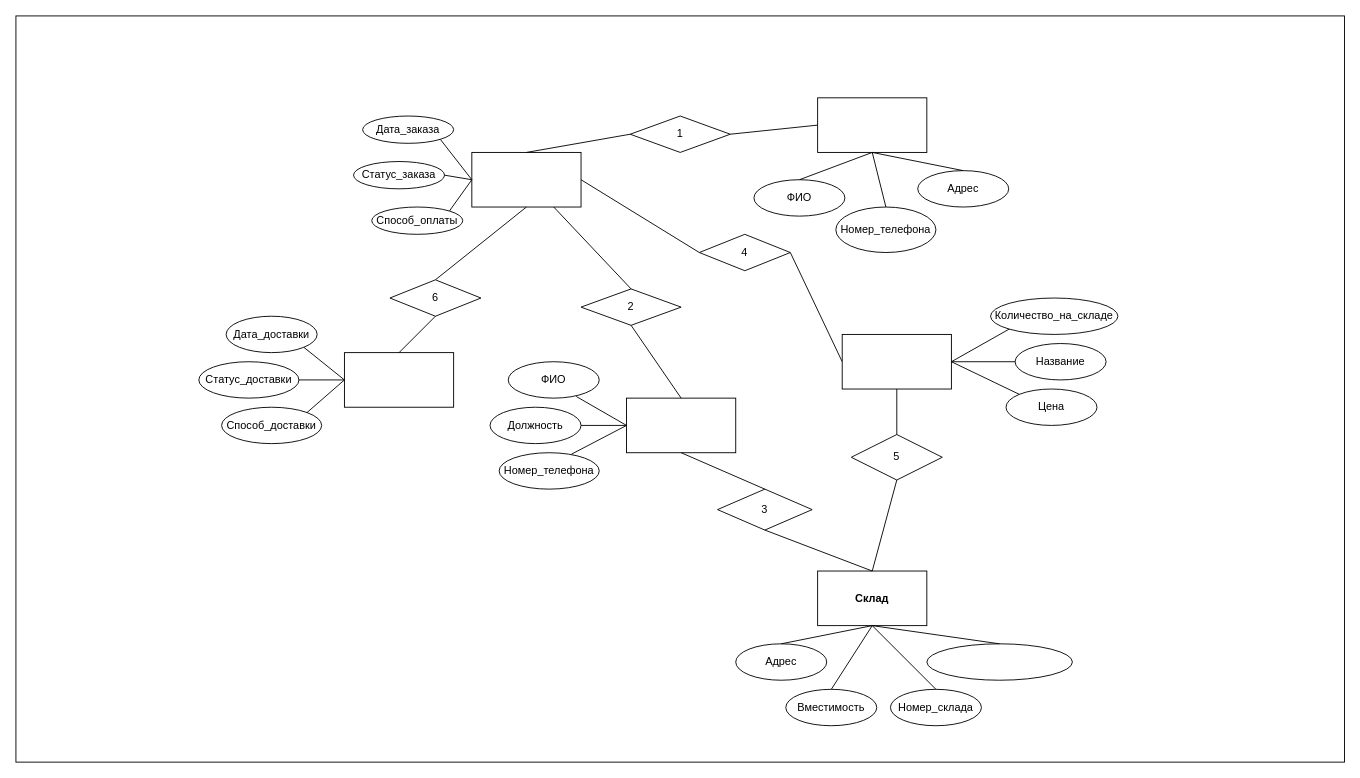
Image size: 1360x778. Some labels were removed from this diagram. Here are the shapes that lost their labels. From the top down, the centre of each, then its label:
At (x=872, y=124): "Покупатель".
At (x=526, y=179): "Заказ".
At (x=399, y=379): "Доставка".
At (x=896, y=361): "Товар".
At (x=681, y=425): "Сотрудник".
At (x=999, y=661): "Ответственный_сотрудник".
